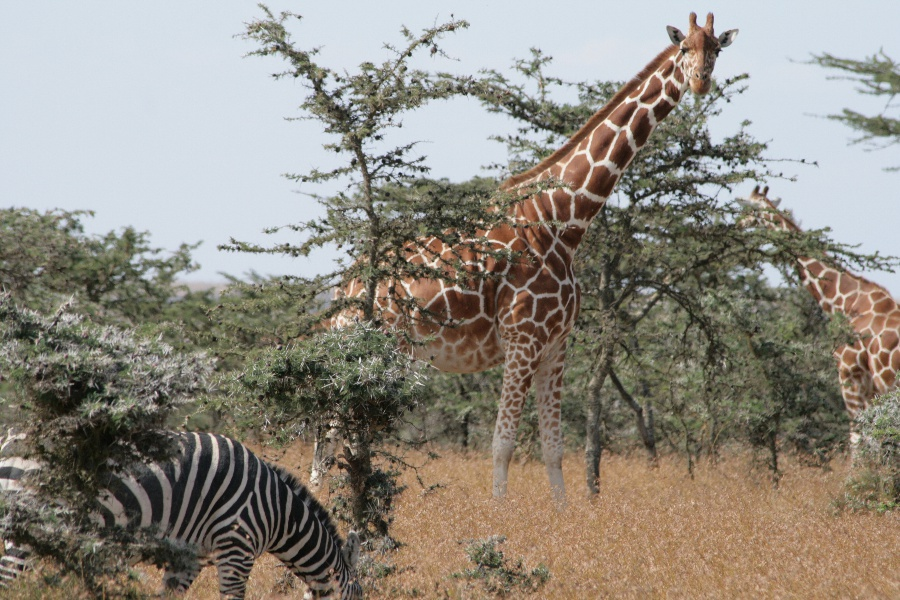giraffe: (288, 6, 740, 484), (734, 184, 898, 477)
